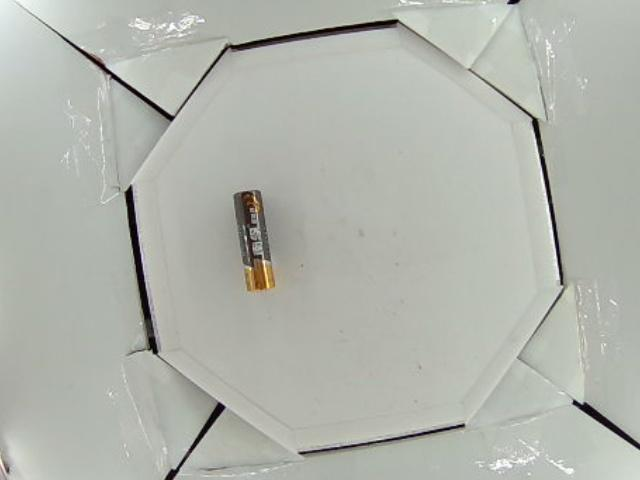Battery: (233, 191, 274, 294)
